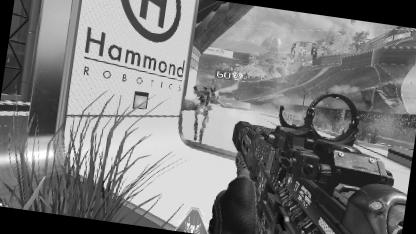Target: (189, 83, 213, 137)
